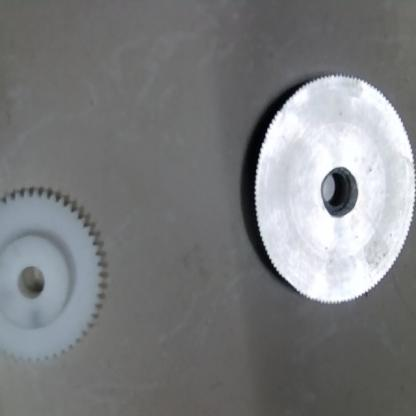FOD: (246, 75, 415, 313), (0, 178, 115, 370)
